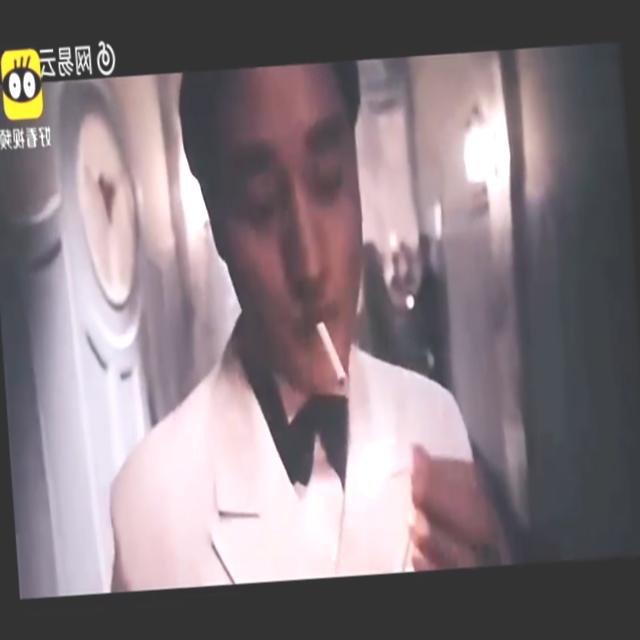cigarette: (313, 318, 352, 391)
